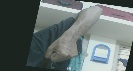hand: (44, 32, 79, 62)
